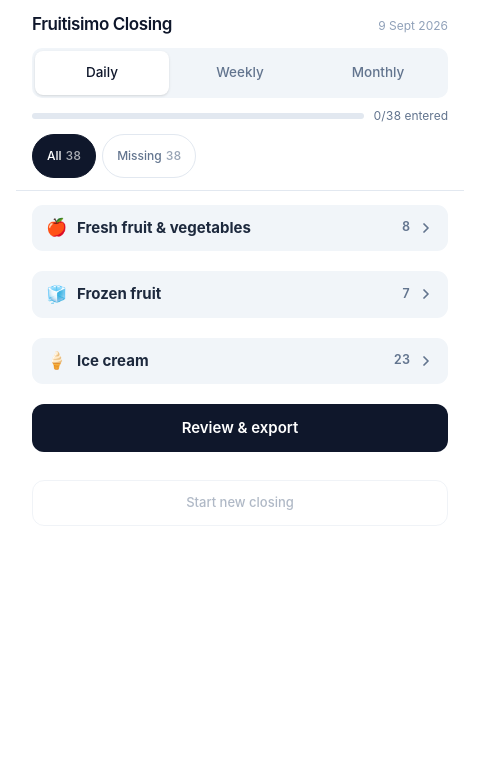
Scenario: opening and closing a group › unfolds one group at a time, leaving the others closed
Click the button "🍎 Fresh fruit & vegetables 8".
click(240, 228)  # box 32,204 -> 448,251
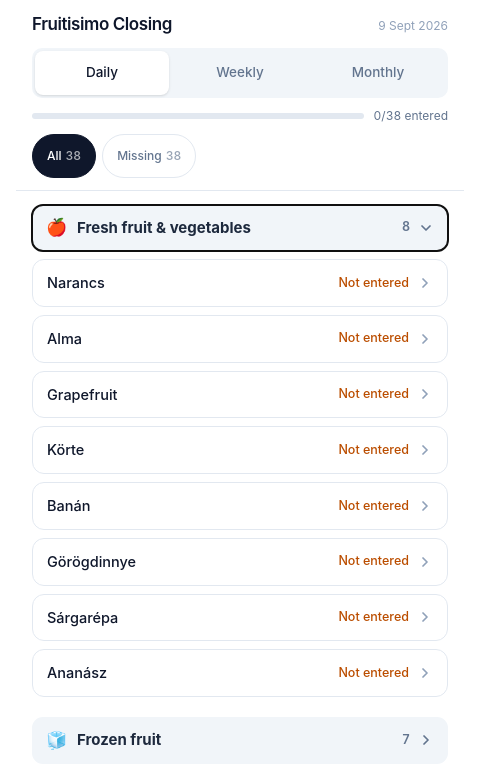
Expected: the button "🍎 Fresh fruit & vegetables 8" is expanded
Expected: the button "Alma Not entered" is shown, 33,316 -> 447,362
Click the button "🍎 Fresh fruit & vegetables 8".
click(240, 228)  # box 32,204 -> 448,251
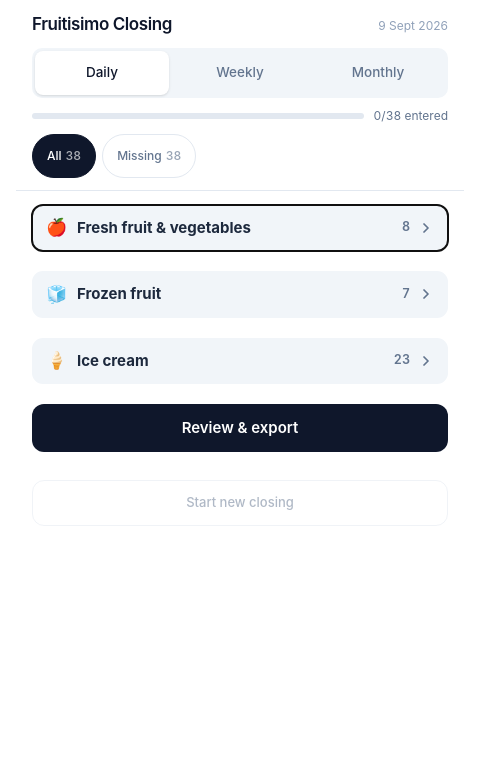
Expected: the button "🍎 Fresh fruit & vegetables 8" is collapsed, 32,204 -> 448,251
Expected: the button "Alma" is gone
